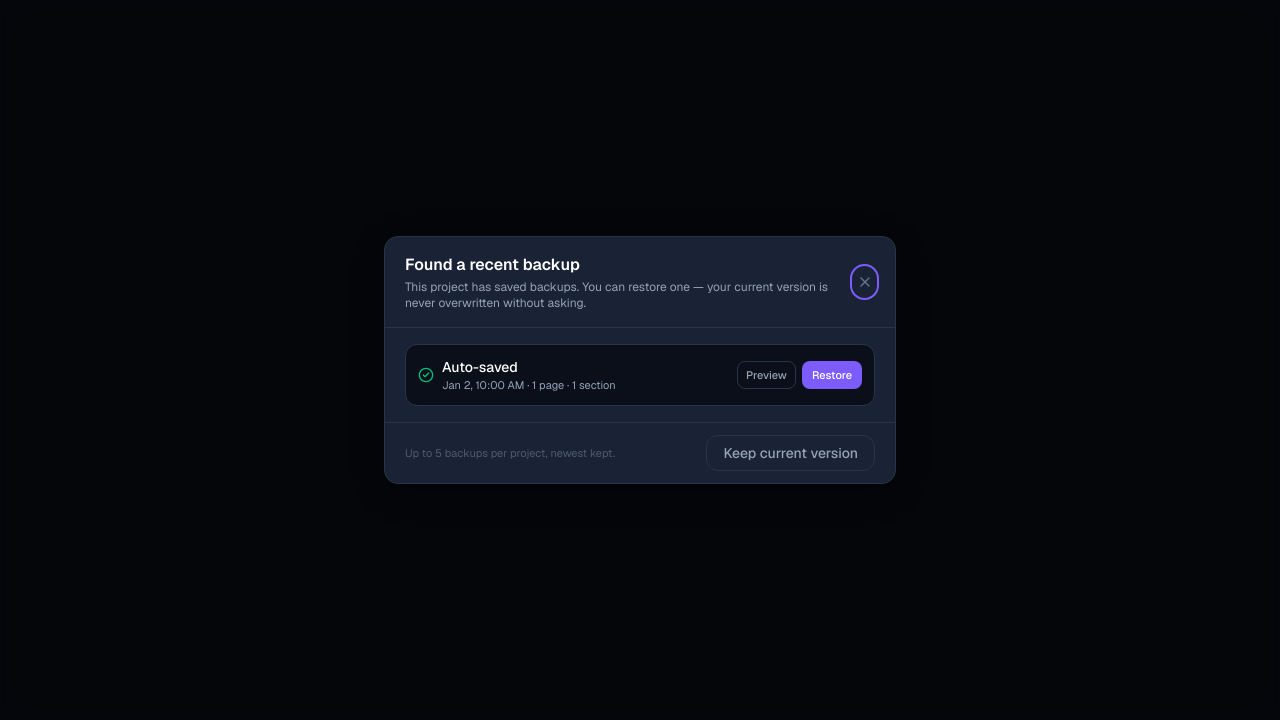
Test: RecoveryDialog › previews a backup without restoring it
The width and height of the screenshot is (1280, 720).
Check: the number of elements with test id "recovery-snapshot" is 1, box [405,344,875,406]
Click the button with aria-label "Preview backup". click: click(766, 375)
box: [737,361,796,389]
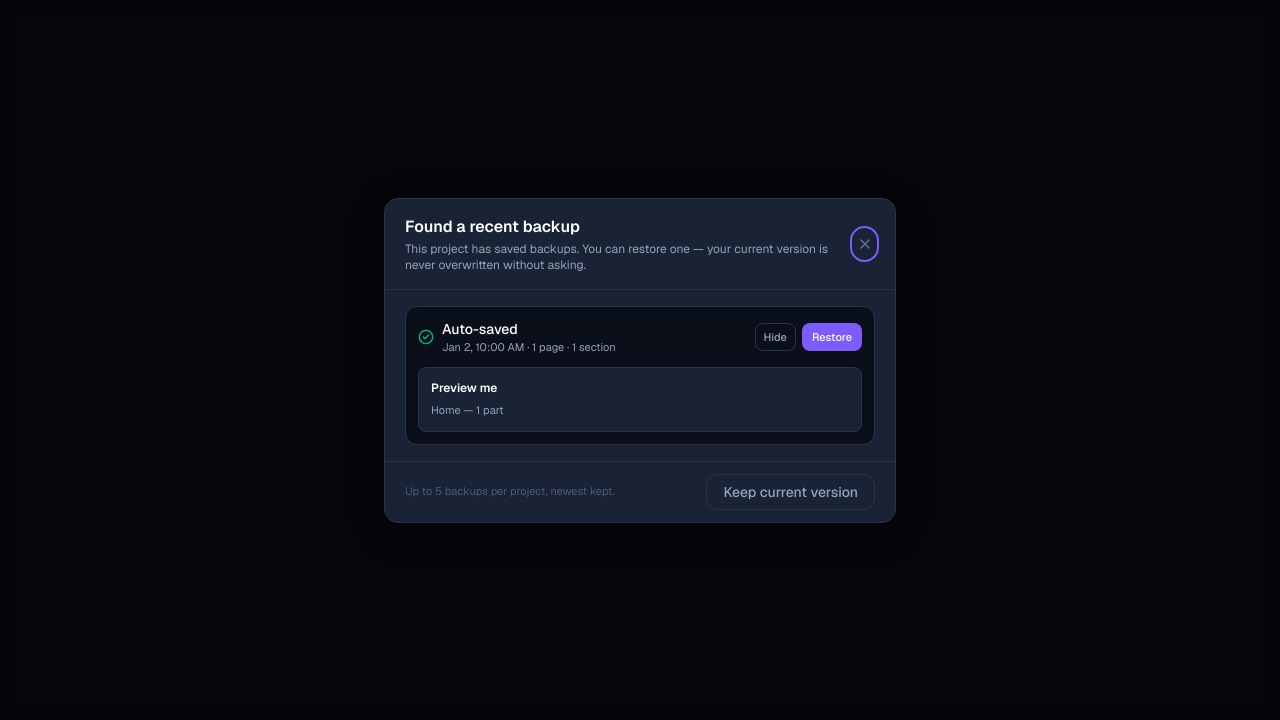
Check: the element with test id "recovery-preview" shows "Preview me", box [431,380,497,396]
